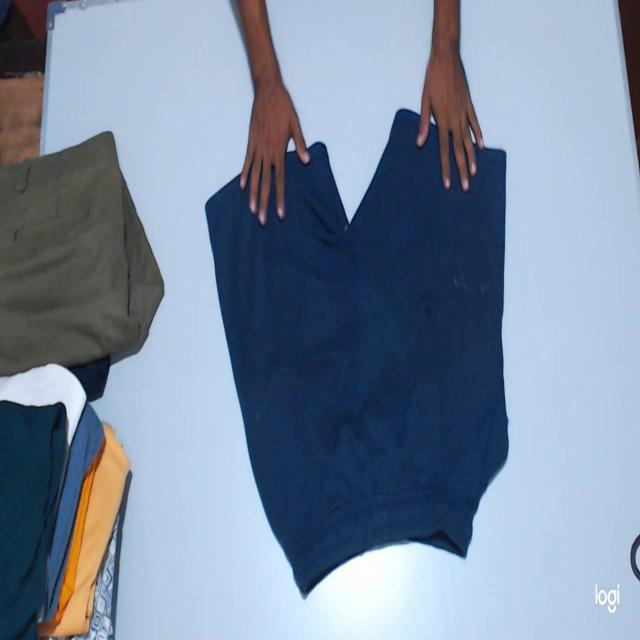new-garment: (206, 110, 508, 593)
